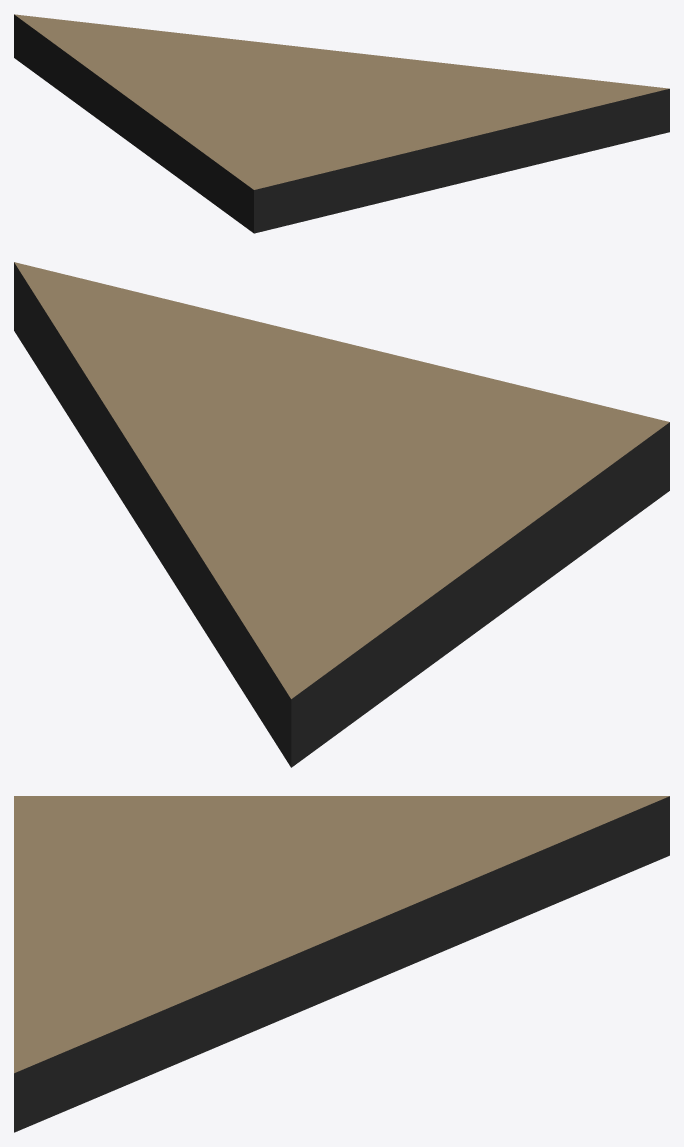
Rendered from Roof_Modular_Half.fbx.
The picture shows the model from 3 angles, top to bottom: view 1: azimuth 30°, elevation 25°; view 2: azimuth 150°, elevation 25°; view 3: azimuth 270°, elevation 25°; orthographic projection. The views are drawn at different scales.
Visible parts, largest first — view 1: Modular_Dungeon_Bricks.022; view 2: Modular_Dungeon_Bricks.022; view 3: Modular_Dungeon_Bricks.022.
Boxes of the visible parts, <box> form: Modular_Dungeon_Bricks.022: <box>14,14,669,233</box>; Modular_Dungeon_Bricks.022: <box>14,262,669,767</box>; Modular_Dungeon_Bricks.022: <box>14,796,669,1132</box>.
Bounding box in the file's own units: 375 × 37.5 × 375.
